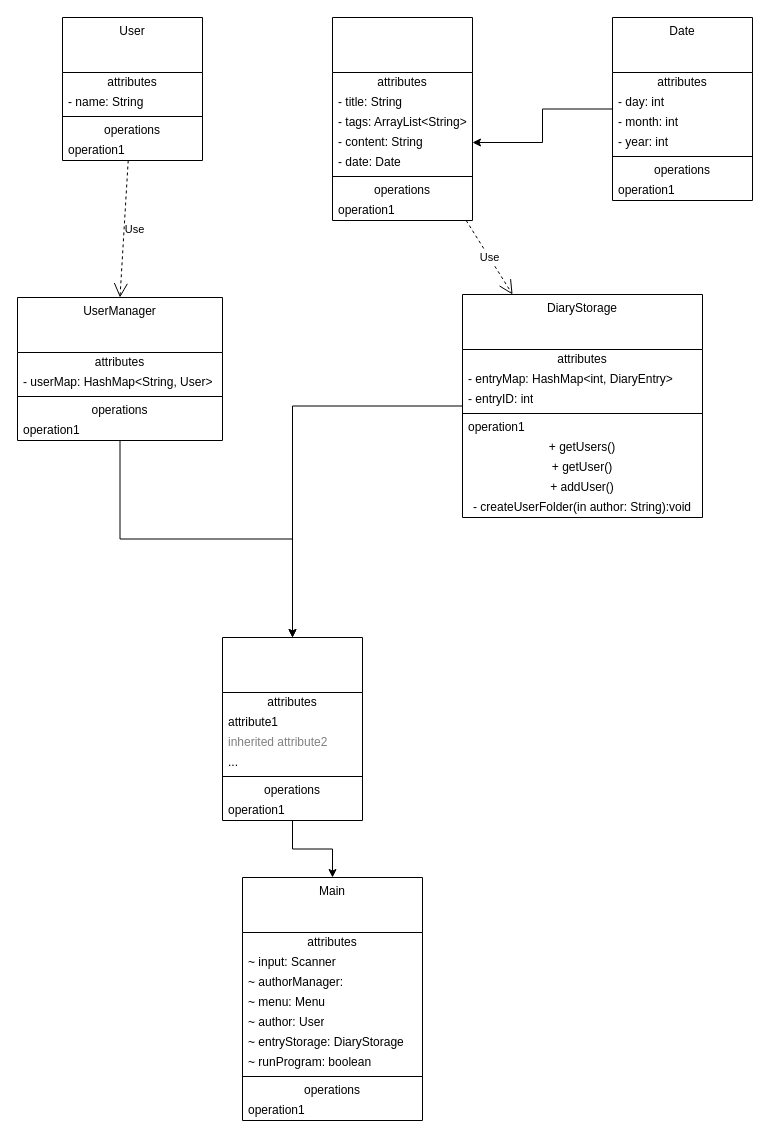
The diagram is 770 pixels wide and 1138 high, and some of its shapes have lost their labels. Each missing label, with the box of its shape:
DiaryEntry: (332, 16, 472, 220)
IO: (222, 636, 362, 820)
